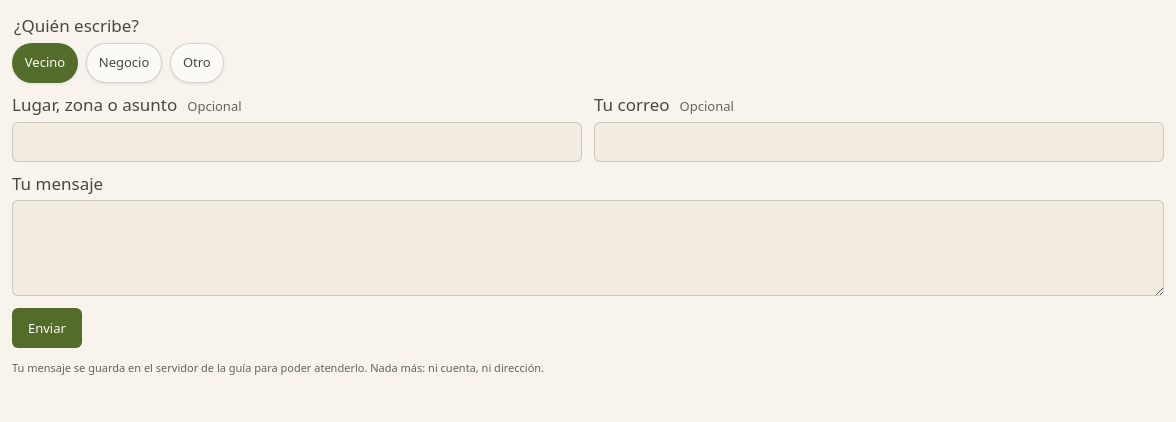
SuggestForm › no envía nada sin decir qué cambia
Click the button "Enviar" at (47, 328), box left=12, top=308, right=82, bottom=348
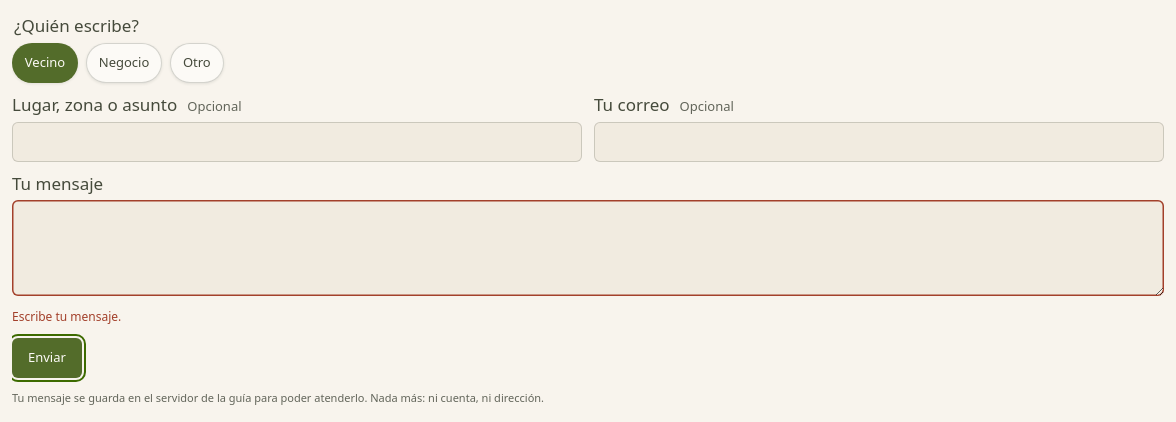
Now the text "Escribe tu mensaje." is shown, box left=12, top=308, right=121, bottom=325
